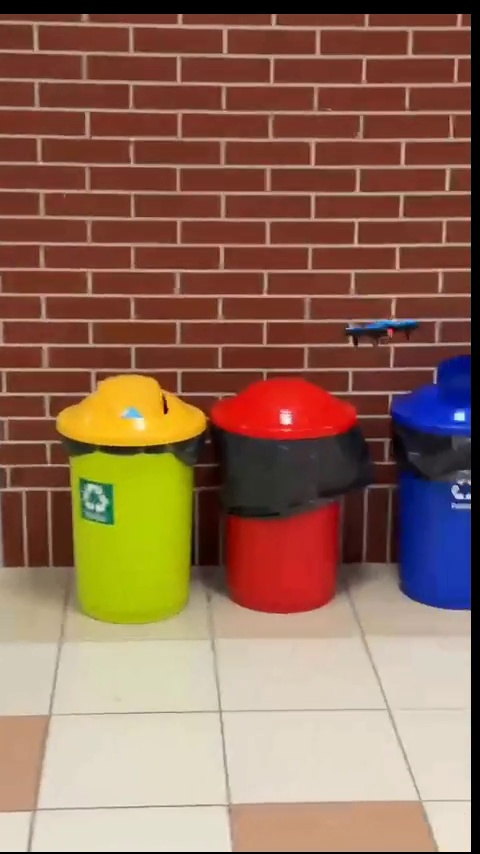drone: (341, 316, 420, 347)
